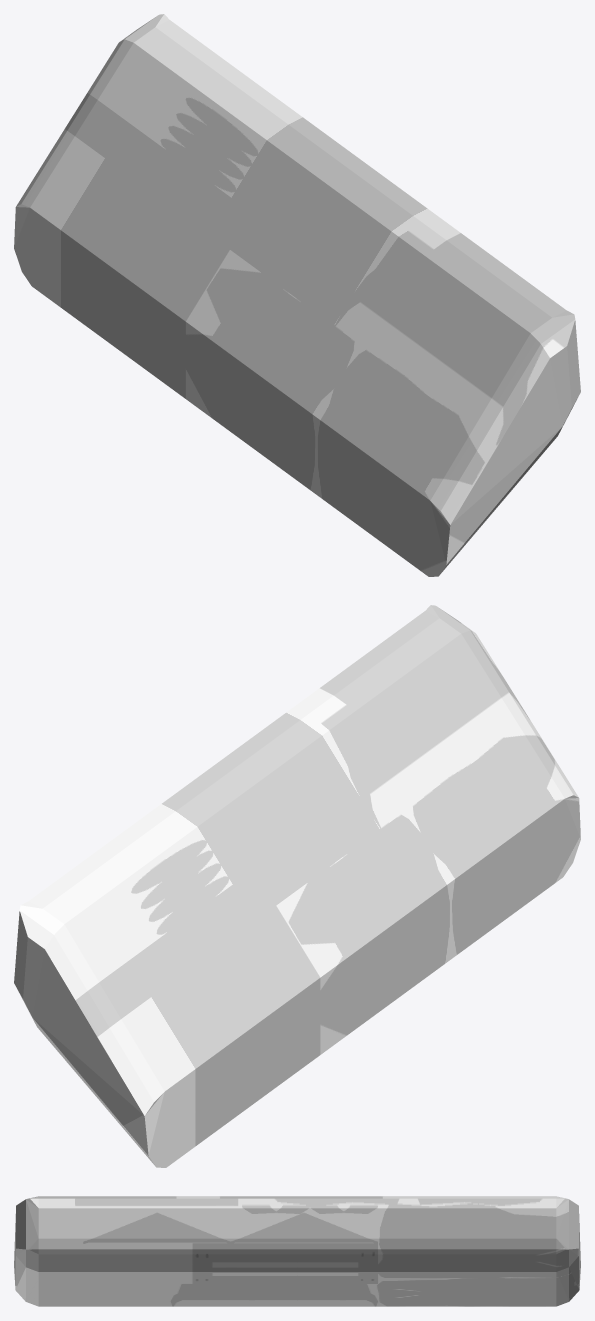
The model's file is runningmachin1.fbx.
3 views of the same model, one above another, from view 1: azimuth 30°, elevation 25°; view 2: azimuth 150°, elevation 25°; view 3: azimuth 270°, elevation 25° (orthographic). The views are drawn at different scales.
Parts seen in each view (by area): view 1: machin.002; view 2: machin.002; view 3: machin.002.
Boxes of the visible parts, x1=… form: machin.002: x1=14, y1=14, x2=580, y2=576; machin.002: x1=14, y1=605, x2=580, y2=1167; machin.002: x1=14, y1=1196, x2=580, y2=1306.
Bounding box in the file's own units: 79.72 × 119 × 403.
